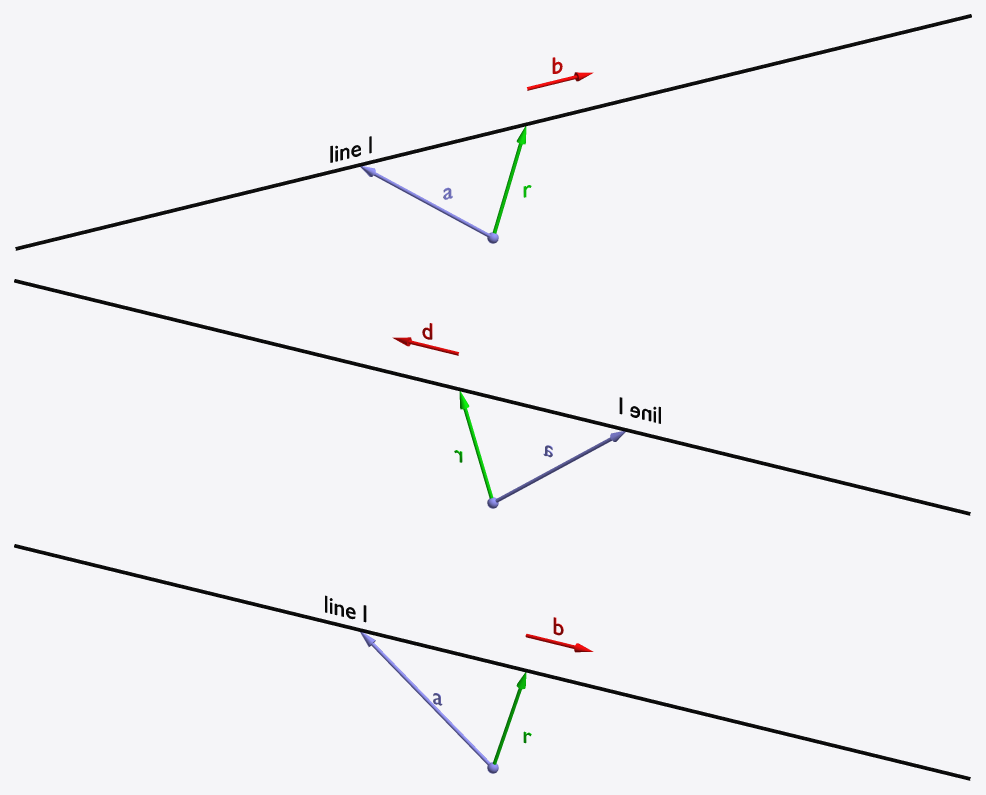
3 views of the same model, one above another, from view 1: azimuth 30°, elevation 25°; view 2: azimuth 150°, elevation 25°; view 3: azimuth 330°, elevation 25° (orthographic).
Visible parts, largest first — view 1: f, A, v; view 2: f, A, v; view 3: f, A.
Part boxes in pixels (x1,y1,x2,y2): f: (15,14,971,250); A: (360,166,490,237); v: (492,126,526,233); f: (14,279,970,515); A: (495,431,625,502); v: (459,391,493,498); f: (14,544,970,780); A: (360,632,490,764).
Bounding box in the file's own units: 0.2847 × 0.0484 × 0.0043.
